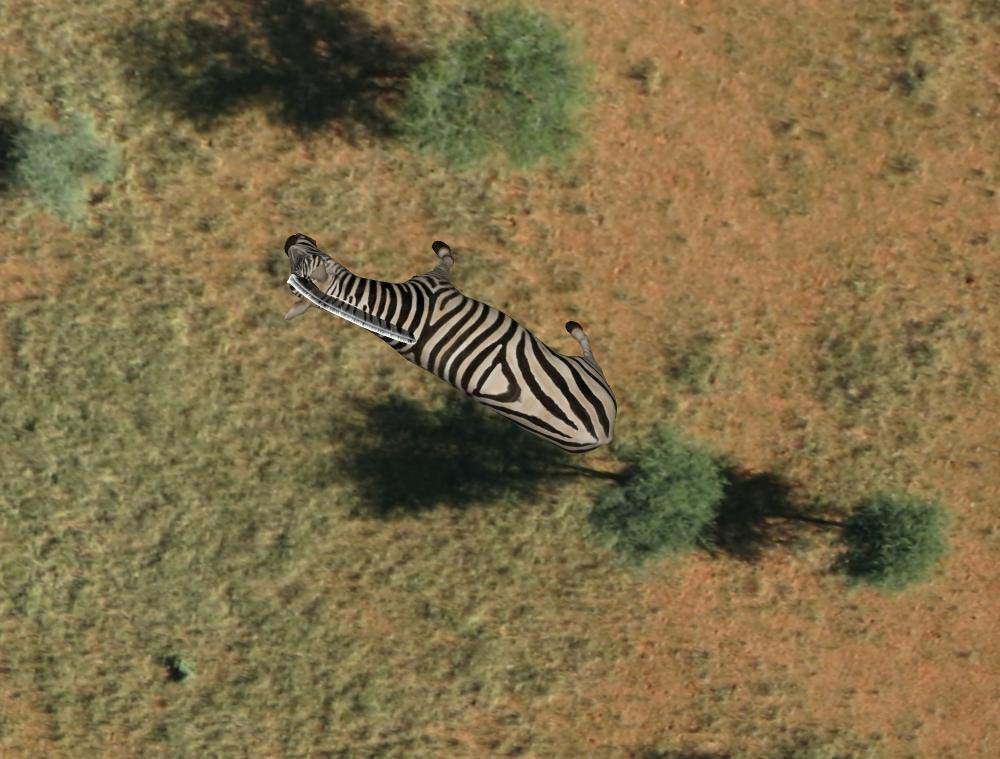zebra: (282, 216, 617, 453)
